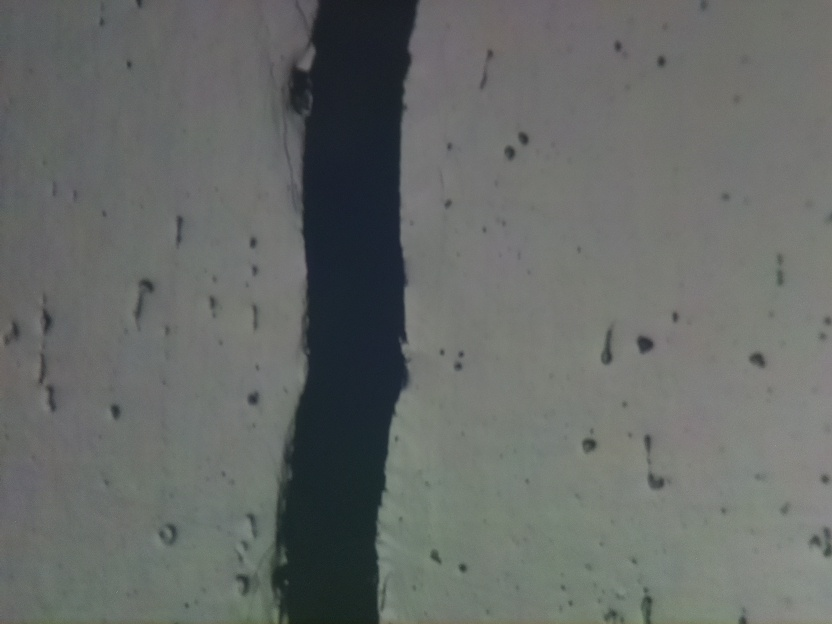crack: (281, 0, 418, 624)
